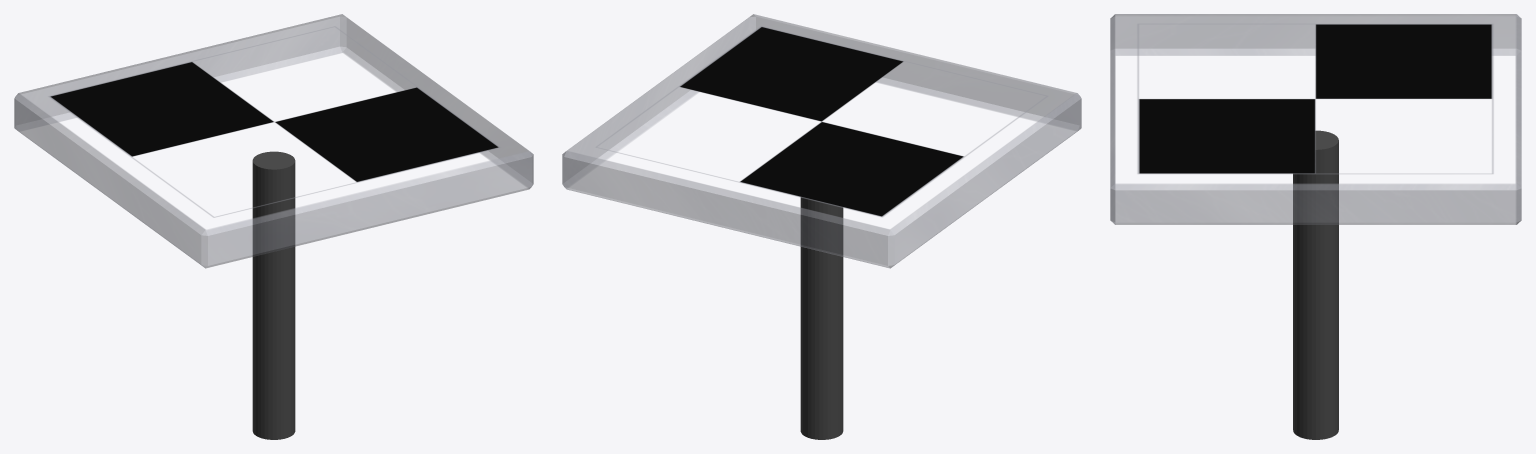
Rendered from tower.glb.
3 views of the same model, side by side, from view 1: azimuth 30°, elevation 25°; view 2: azimuth 150°, elevation 25°; view 3: azimuth 270°, elevation 25° (orthographic). The views are drawn at different scales.
Visible parts, largest first — view 1: Tower; view 2: Tower; view 3: Tower.
Part boxes in pixels (x1,y1,x2,y2): Tower: (14, 14, 533, 439); Tower: (562, 14, 1081, 439); Tower: (1110, 14, 1521, 439).
Size of the model in its own units: 2.25 by 2 by 2.25.
1 material, 1 textured.
